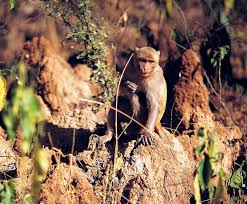monkey: (125, 38, 180, 160)
